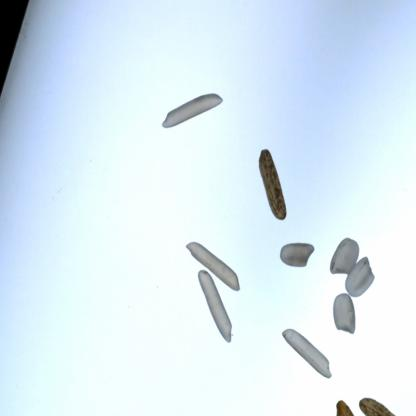Full: (158, 76, 226, 160), (241, 145, 304, 222), (186, 265, 243, 342), (276, 327, 344, 378), (179, 240, 248, 290), (274, 237, 320, 279), (331, 294, 371, 338), (359, 380, 405, 416), (345, 255, 378, 304), (331, 231, 360, 279), (330, 392, 360, 414)
